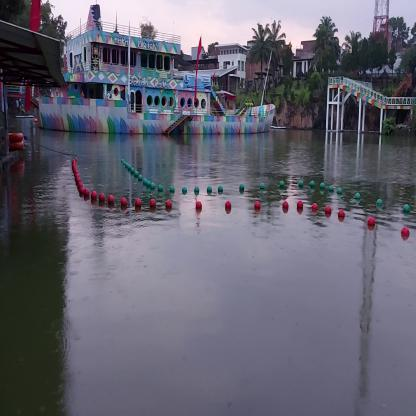green_buoy: (319, 182, 326, 193), (329, 184, 335, 196), (258, 182, 265, 192), (354, 194, 361, 204), (309, 180, 315, 190), (402, 206, 408, 216), (239, 185, 245, 194), (207, 185, 213, 194), (299, 178, 304, 188), (280, 180, 285, 190), (337, 187, 342, 197), (169, 186, 175, 194), (378, 201, 384, 209), (194, 186, 199, 194), (151, 183, 156, 190), (218, 186, 223, 192), (182, 187, 187, 193), (159, 185, 162, 192)
red_buoy: (90, 192, 98, 204), (120, 197, 128, 208), (135, 199, 142, 210), (99, 193, 105, 205), (366, 217, 374, 226), (401, 227, 409, 236), (224, 202, 232, 210), (325, 206, 332, 215), (150, 199, 156, 209), (166, 200, 172, 210), (338, 209, 345, 217), (254, 200, 260, 209), (297, 201, 303, 210), (109, 195, 114, 205), (196, 202, 202, 210), (282, 204, 288, 210), (312, 205, 318, 211)
